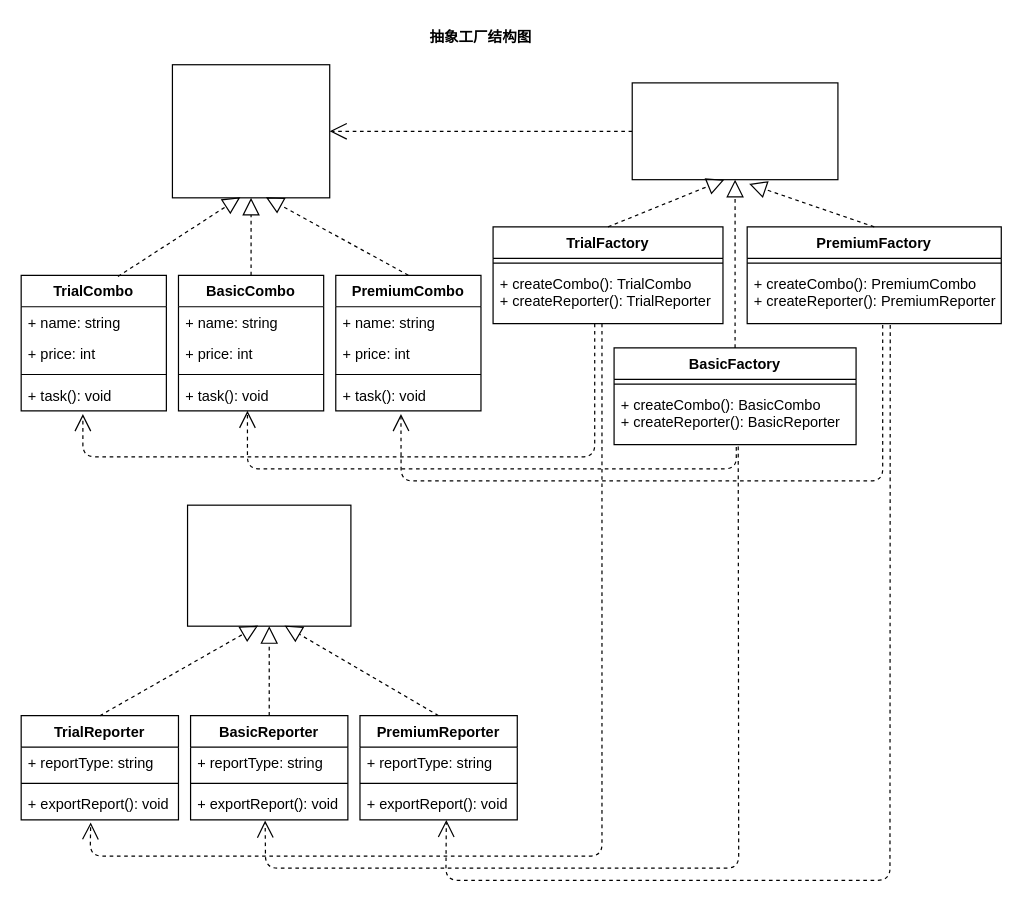
Some shapes in this 1022 by 918 pixel diagram are drawn without their labels. The shapes that lost their labels are listed below. From the top down, each one's centre as x and y in pixels, then its label:
(x=250, y=131): <<Interface>> ICombo + name: string + price: int + task(): void
(x=734, y=131): <<Interface>> IFactory + createCombo(): ICombo + createReporter(): IReporter
(x=268, y=565): <<Interface>> IReporter + reportType: string + exportReport(): void
